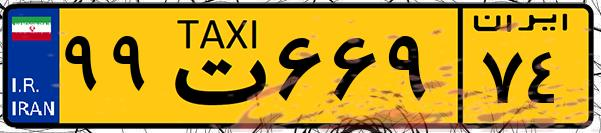4: (525, 38, 570, 115)
6: (270, 28, 330, 110), (330, 28, 385, 110)
7: (475, 38, 525, 113)
9: (385, 28, 445, 110), (57, 26, 110, 100), (110, 28, 158, 98)
ت: (158, 12, 270, 120)
